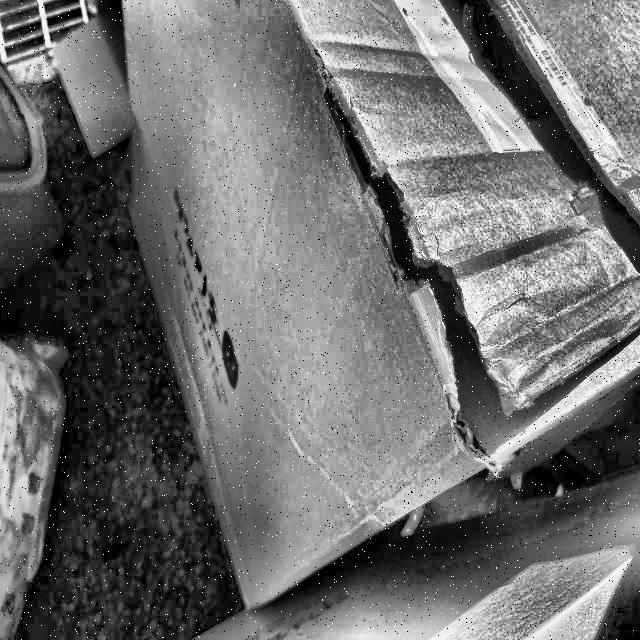box: (106, 1, 640, 632)
hole: (320, 64, 520, 460)
